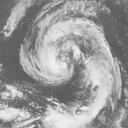cyclone: (18, 10, 117, 87)
